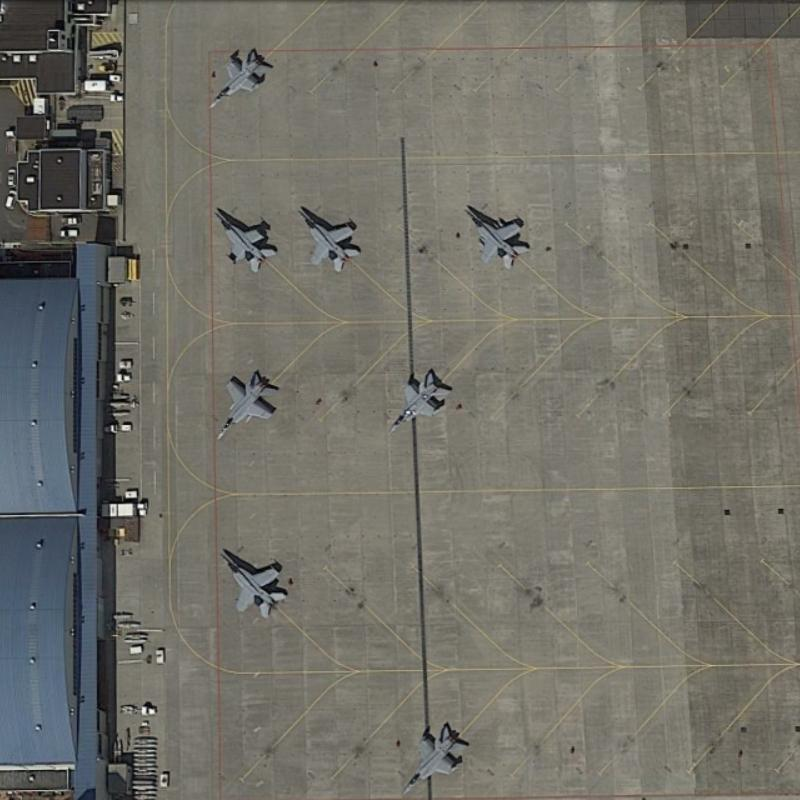A16: (451, 193, 540, 275), (214, 538, 293, 624), (395, 713, 476, 796), (206, 195, 286, 279), (290, 199, 372, 280), (208, 362, 280, 443), (383, 362, 457, 433), (204, 38, 279, 108)
